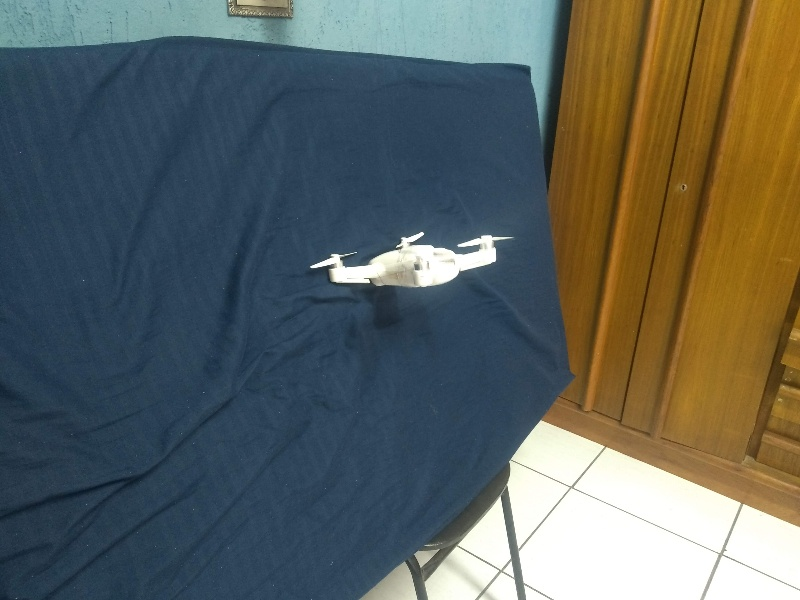drone: (307, 224, 515, 293)
